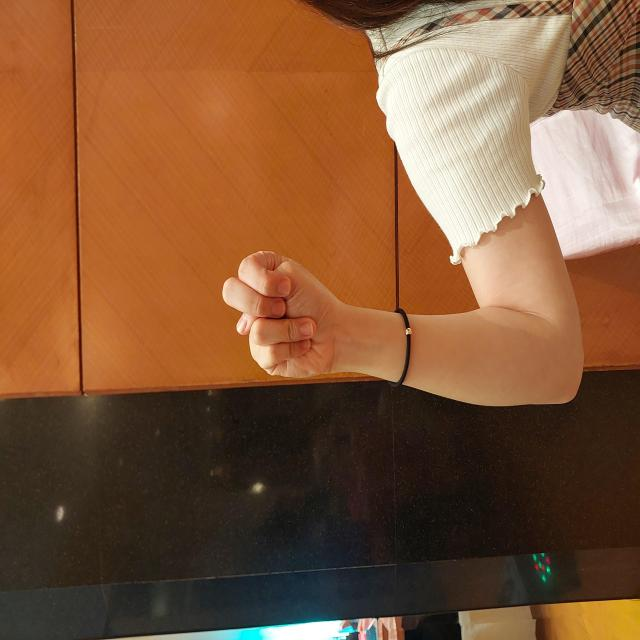N: (260, 221, 392, 340)
